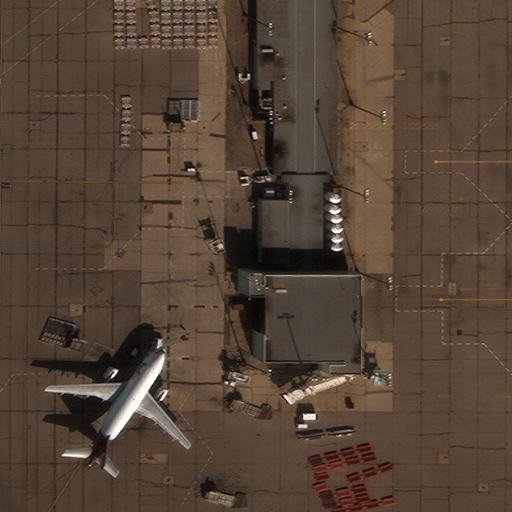Large Civil Transport: (48, 349, 190, 467)
